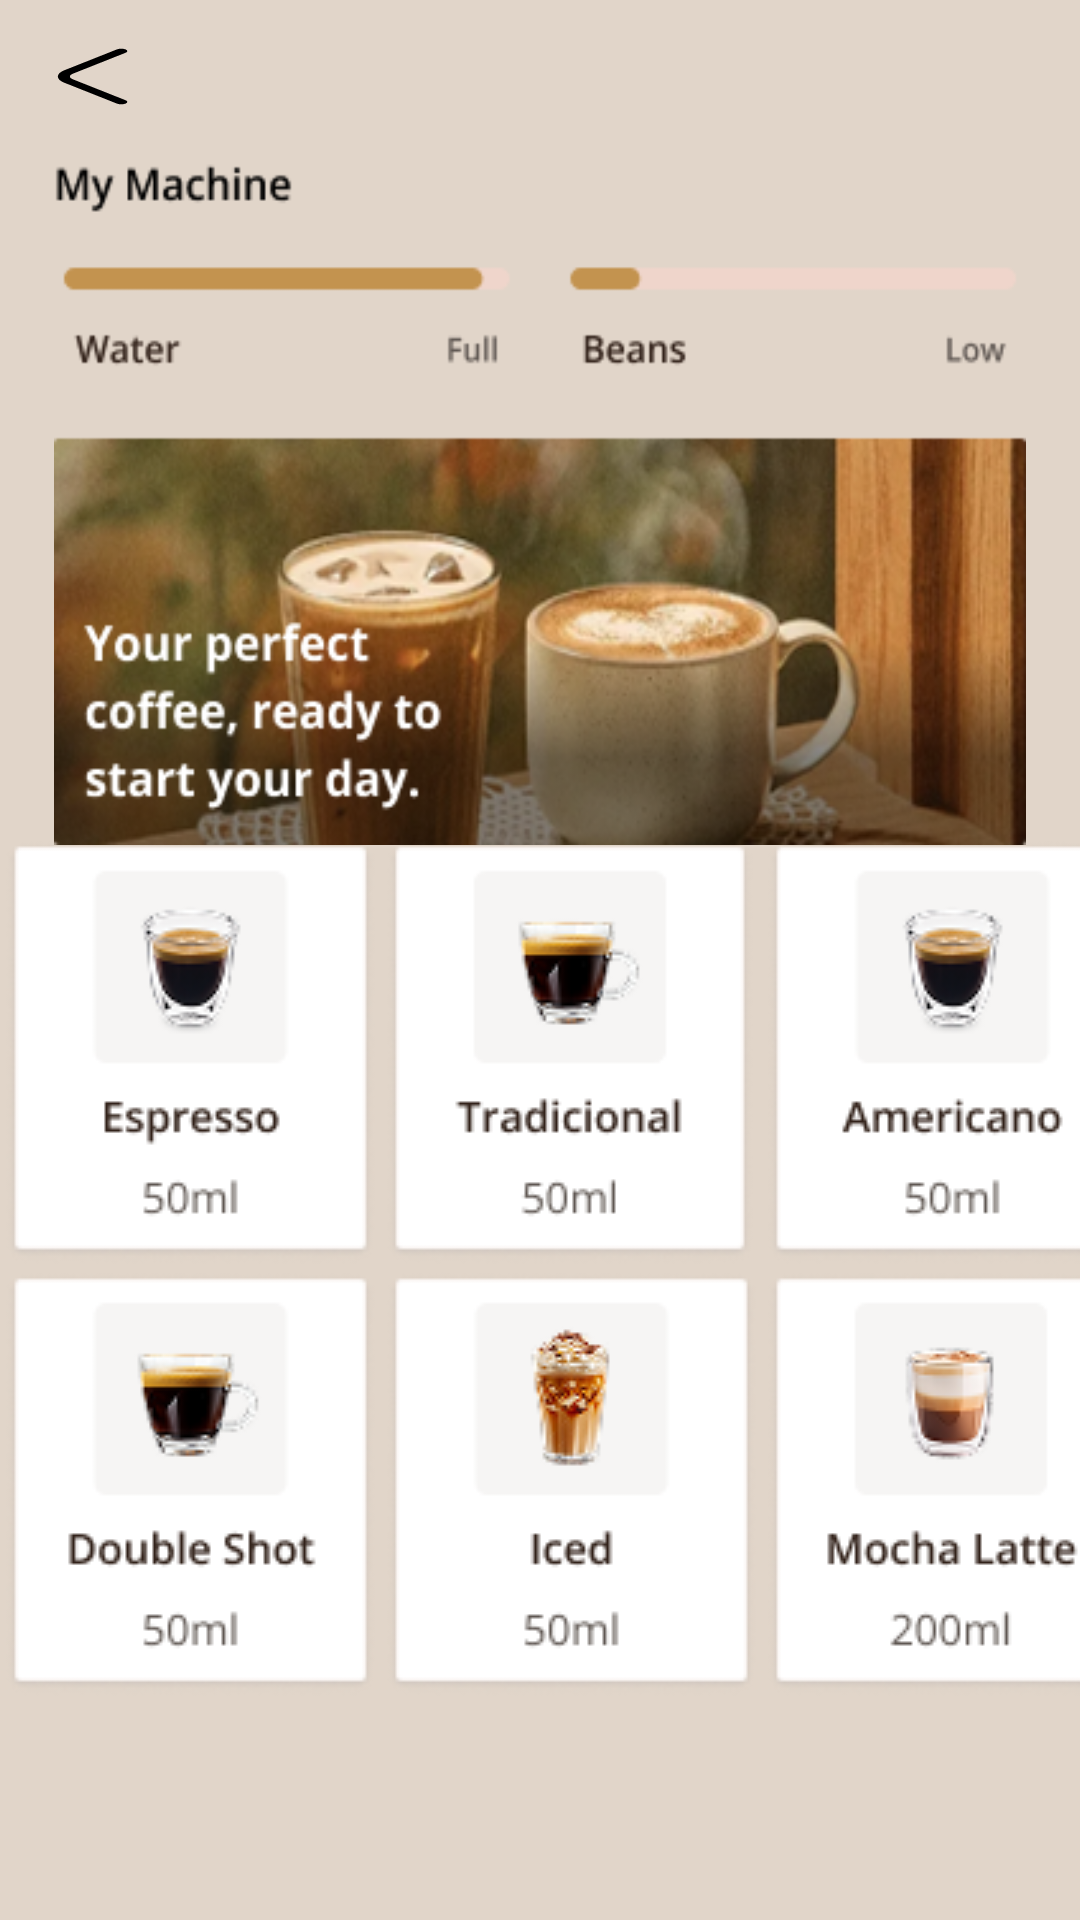

Point at icon controls on the screen. Image size 1080px x 1920px, points as point (x, y).
arrow left: point (92, 76)
